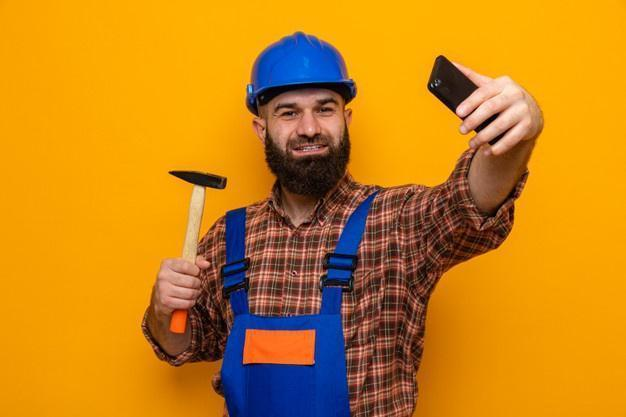helmet: (244, 30, 357, 104)
